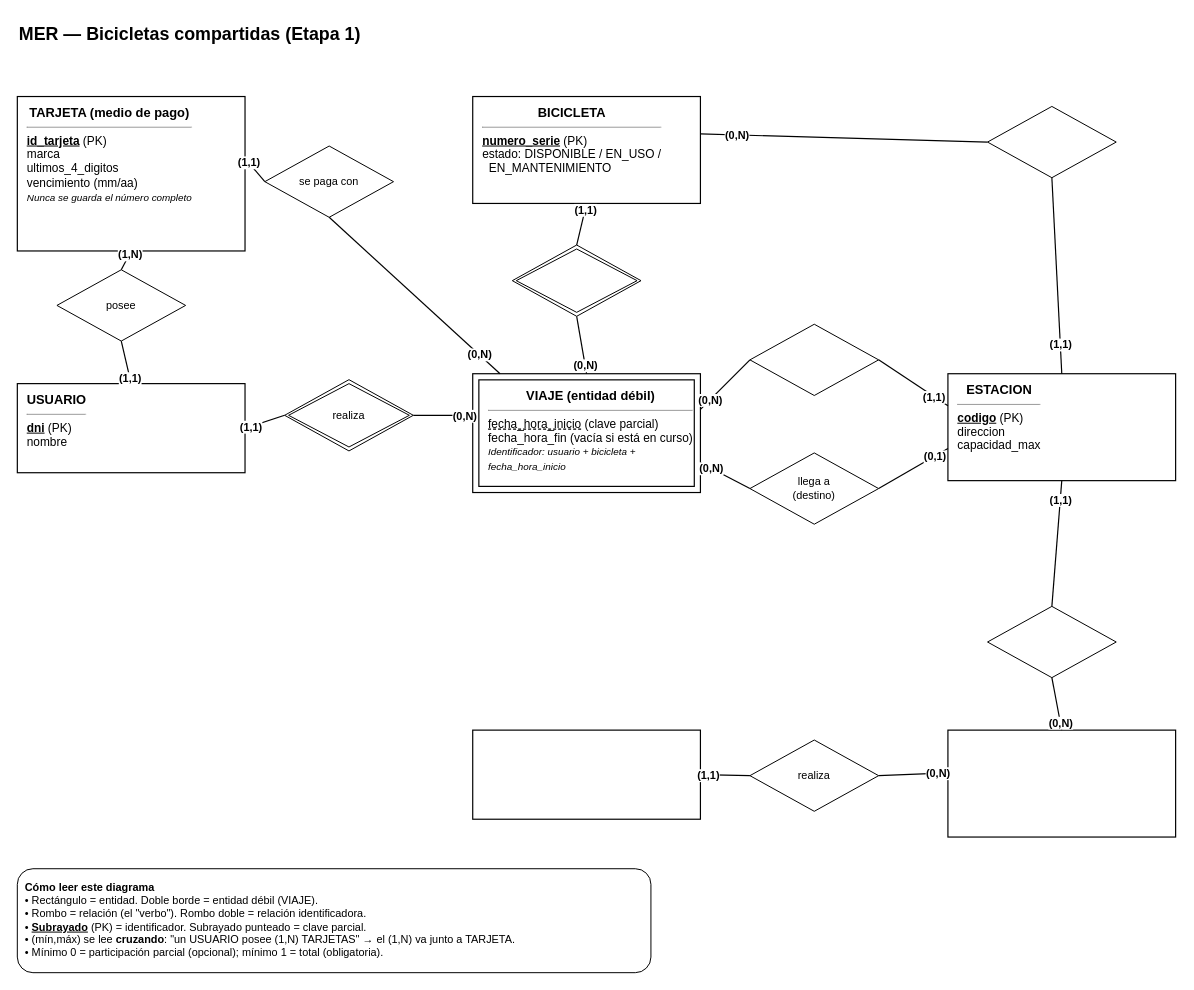
Image size: 1194x990. Some labels were removed from this diagram. The shapes that lost their labels are listed below. From the top down, each one's centre as x and y in pixels, then its label:
the point at 1051,141: está ubicada en
the point at 576,280: se usa en
the point at 814,359: sale de (origen)
the point at 1051,641: requiere
the point at 586,774: OPERARIO TÉCNICO legajo (PK) nombre
the point at 1061,783: MANTENIMIENTO (tarea) id_mantenimiento (PK) fecha descripcion
